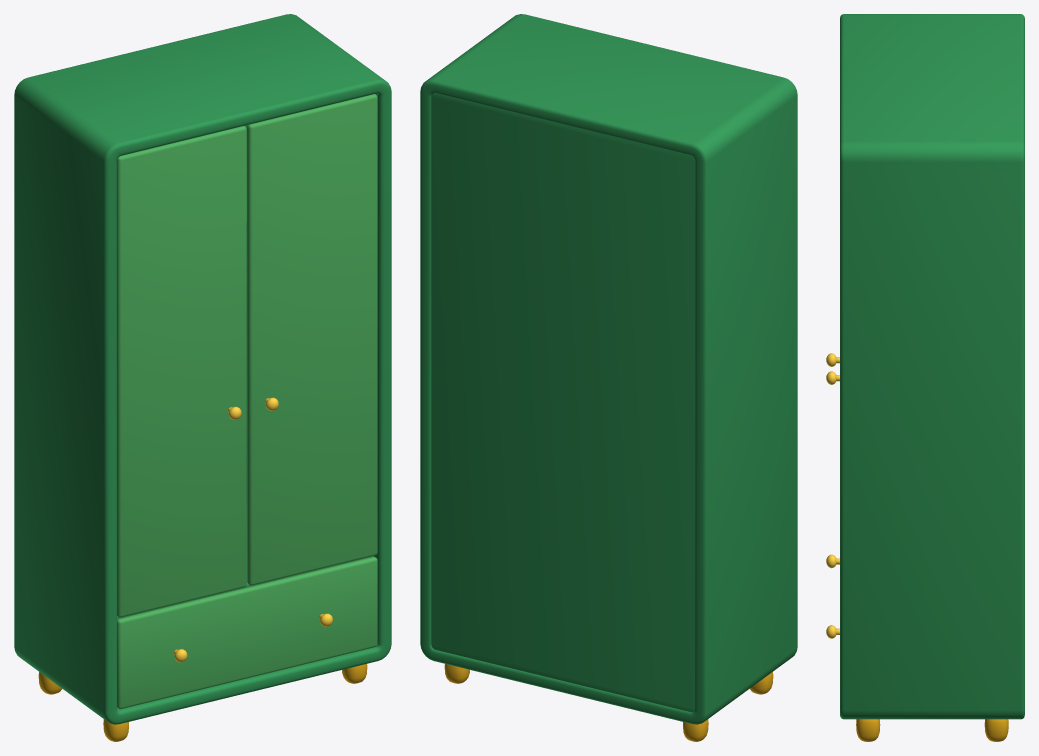
Rendered from armario_2portas_gaveta_verde.glb.
3 renders of one model, left to right at view 1: azimuth 30°, elevation 25°; view 2: azimuth 150°, elevation 25°; view 3: azimuth 270°, elevation 25°, orthographic.
Parts seen in each view (by area): view 1: armario_2portas_gaveta_verde, porta_2, porta_1, gaveta_1; view 2: armario_2portas_gaveta_verde; view 3: armario_2portas_gaveta_verde.
Part boxes in pixels (x1=…): armario_2portas_gaveta_verde: x1=14, y1=14, x2=391, y2=741; porta_2: x1=247, y1=94, x2=377, y2=585; porta_1: x1=117, y1=126, x2=246, y2=617; gaveta_1: x1=117, y1=556, x2=377, y2=709; armario_2portas_gaveta_verde: x1=420, y1=14, x2=797, y2=741; armario_2portas_gaveta_verde: x1=840, y1=14, x2=1024, y2=741.
Bounding box in the file's own units: 0.82 × 1.66 × 0.4946.
1 material, 1 textured.
